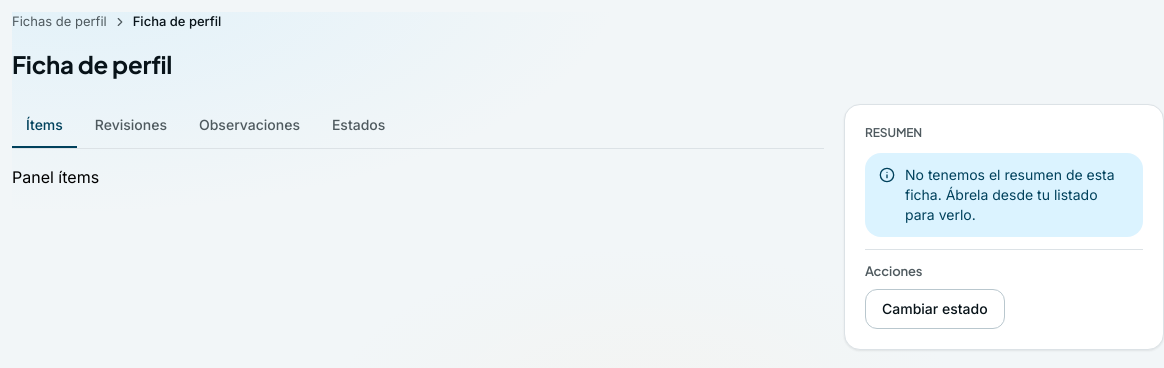
it: AsesorFichaDetalleView › «Cambiar estado» del panel lateral lleva a la pestaña Estados
Step 1. Click the button "Cambiar estado" → coordinates (935, 309), box [865,289,1005,329]
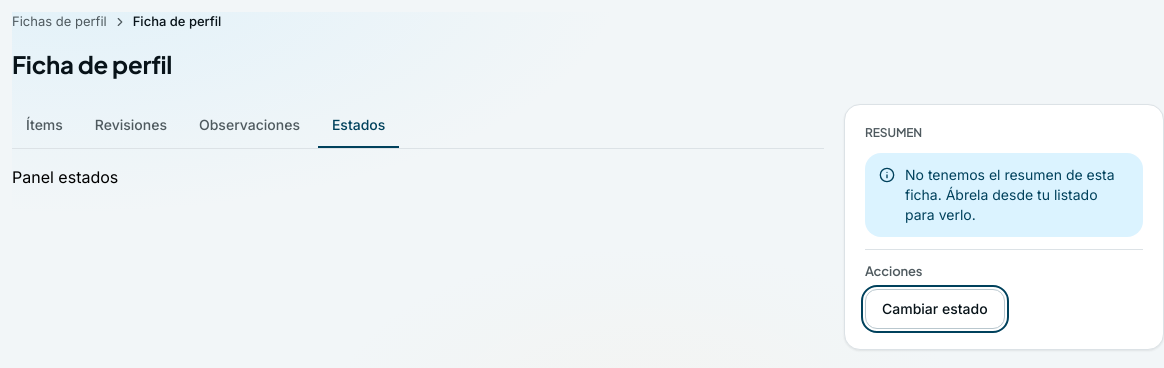
expect the text "Panel estados" is shown: met, box [12,166,118,186]
